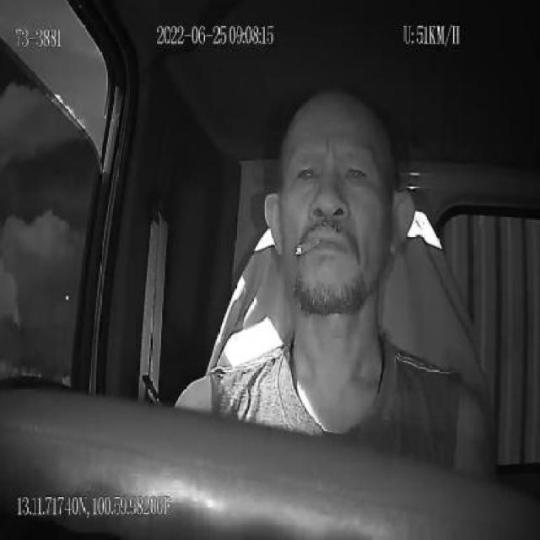smoking: (294, 238, 320, 256)
